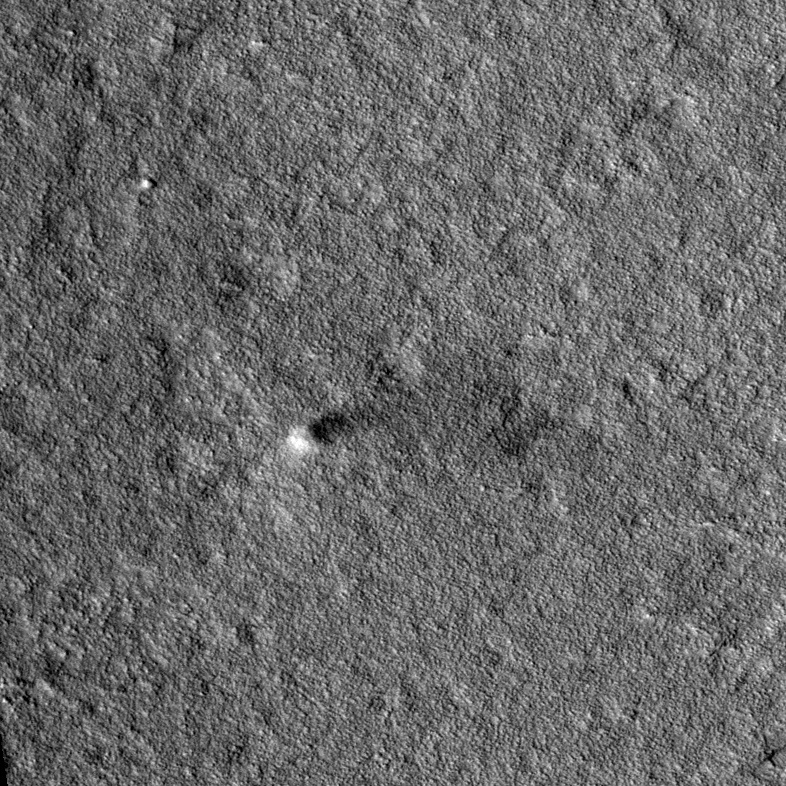dust_devil: (284, 400, 389, 456)
